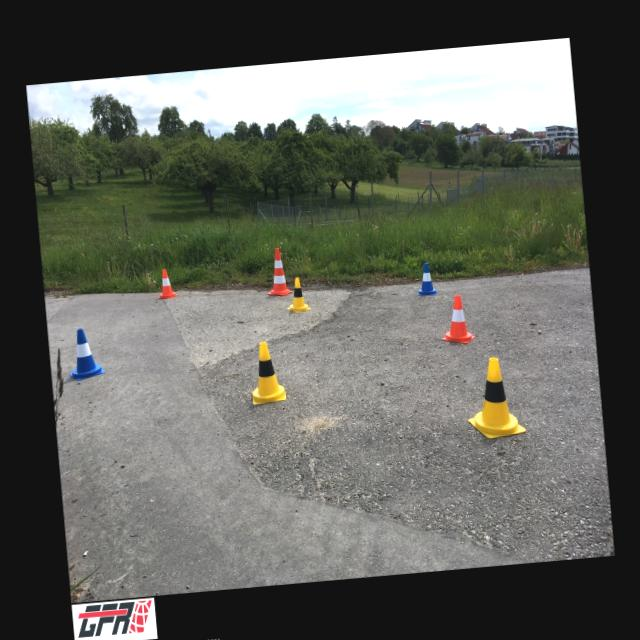blue_cone: (65, 326, 105, 381), (414, 262, 438, 296)
large_orange_cone: (264, 246, 292, 296)
orange_cone: (438, 293, 476, 345), (154, 268, 178, 299)
yellow_cone: (462, 354, 526, 440), (248, 340, 286, 404), (284, 276, 310, 312)
